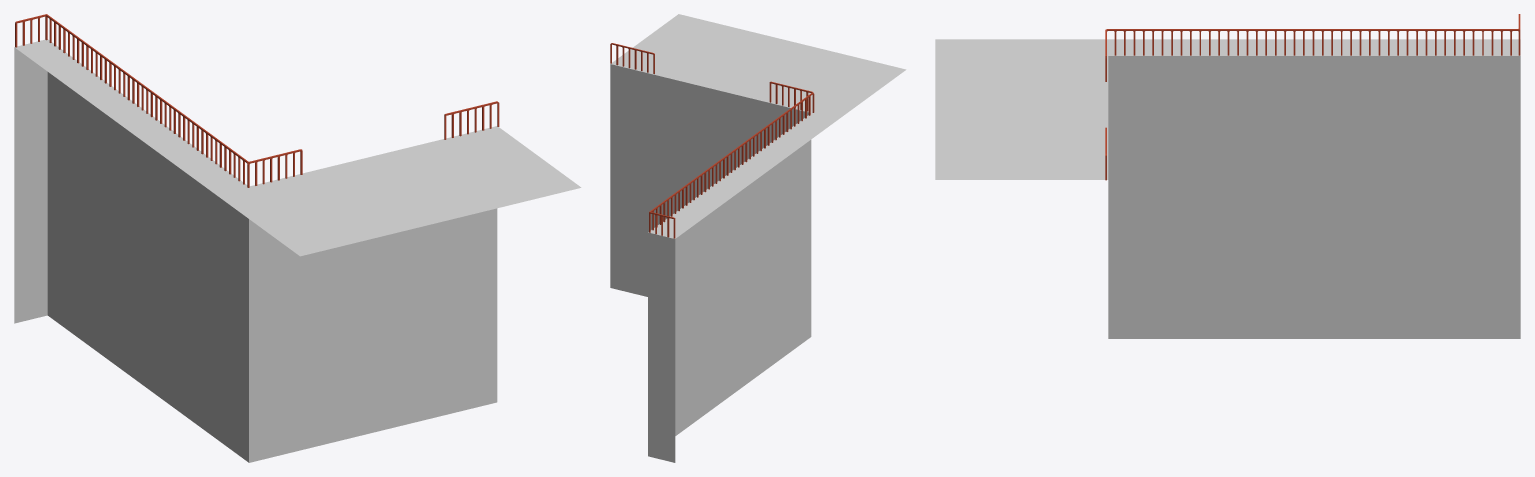
File: PicduMidi_plataforma_y_pasillo_A_sotano.fbx
The picture shows the model from 3 angles, left to right: view 1: azimuth 30°, elevation 25°; view 2: azimuth 150°, elevation 25°; view 3: azimuth 270°, elevation 25°; orthographic projection. The views are drawn at different scales.
Parts seen in each view (by area): view 1: PicduMidi_Pasillo_y_plataforma_Sotano, PicduMidi_barandilla_sotano; view 2: PicduMidi_Pasillo_y_plataforma_Sotano, PicduMidi_barandilla_sotano; view 3: PicduMidi_Pasillo_y_plataforma_Sotano, PicduMidi_barandilla_sotano.
Boxes of the visible parts, x1,y1,x2,y2 form: PicduMidi_Pasillo_y_plataforma_Sotano: [14, 39, 581, 462]; PicduMidi_barandilla_sotano: [45, 14, 499, 187]; PicduMidi_Pasillo_y_plataforma_Sotano: [610, 14, 906, 462]; PicduMidi_barandilla_sotano: [610, 43, 814, 232]; PicduMidi_Pasillo_y_plataforma_Sotano: [935, 39, 1520, 338]; PicduMidi_barandilla_sotano: [1105, 28, 1520, 180].
Size of the model in its own units: 1799 by 1839 by 3157.
